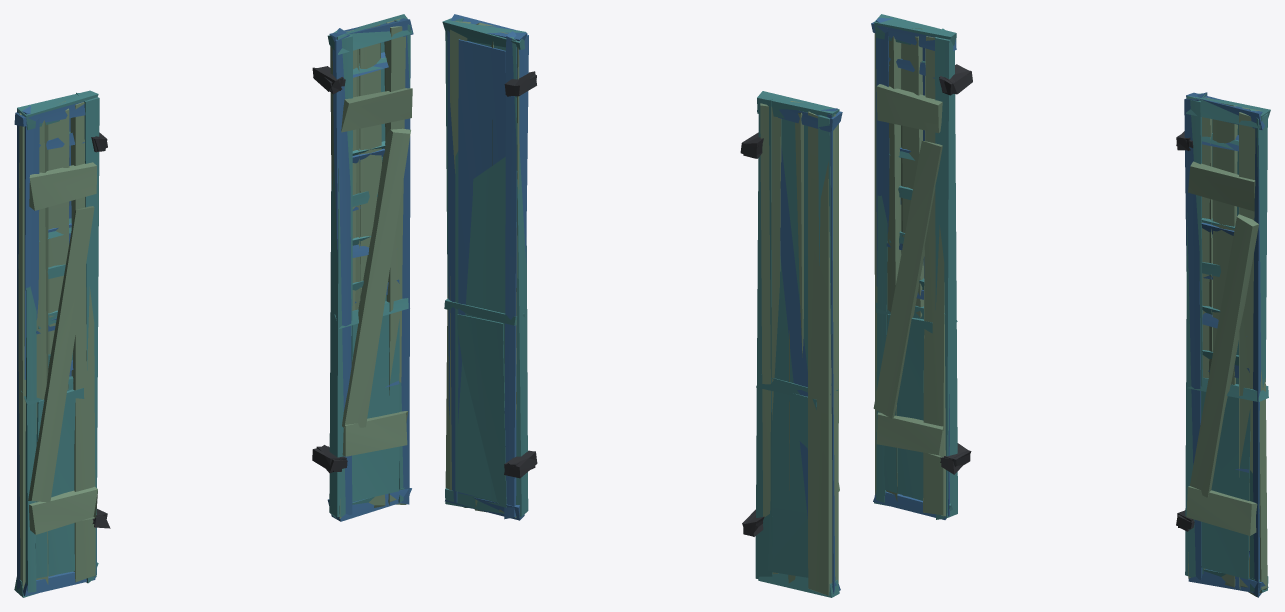
Rendered from shutters.glb.
3 views of the same model, side by side, from view 1: azimuth 30°, elevation 25°; view 2: azimuth 150°, elevation 25°; view 3: azimuth 330°, elevation 25° (orthographic).
Parts seen in each view (by area): view 1: shutters.v1.mesh, shutters.v2.mesh, shutters.v0.mesh; view 2: shutters.v2.mesh, shutters.v1.mesh, shutters.v0.mesh; view 3: shutters.v1.mesh, shutters.v2.mesh, shutters.v0.mesh.
Boxes of the visible parts, x1,y1,x2,y2 form: shutters.v1.mesh: [18, 18, 412, 589]; shutters.v2.mesh: [14, 14, 412, 597]; shutters.v0.mesh: [14, 18, 413, 596]; shutters.v2.mesh: [442, 18, 839, 597]; shutters.v1.mesh: [445, 21, 839, 595]; shutters.v0.mesh: [445, 14, 842, 593]; shutters.v1.mesh: [873, 28, 1267, 596]; shutters.v2.mesh: [874, 14, 1270, 592]; shutters.v0.mesh: [871, 18, 1268, 597].
Bounding box in the file's own units: 0.9733 × 1.15 × 0.087.
